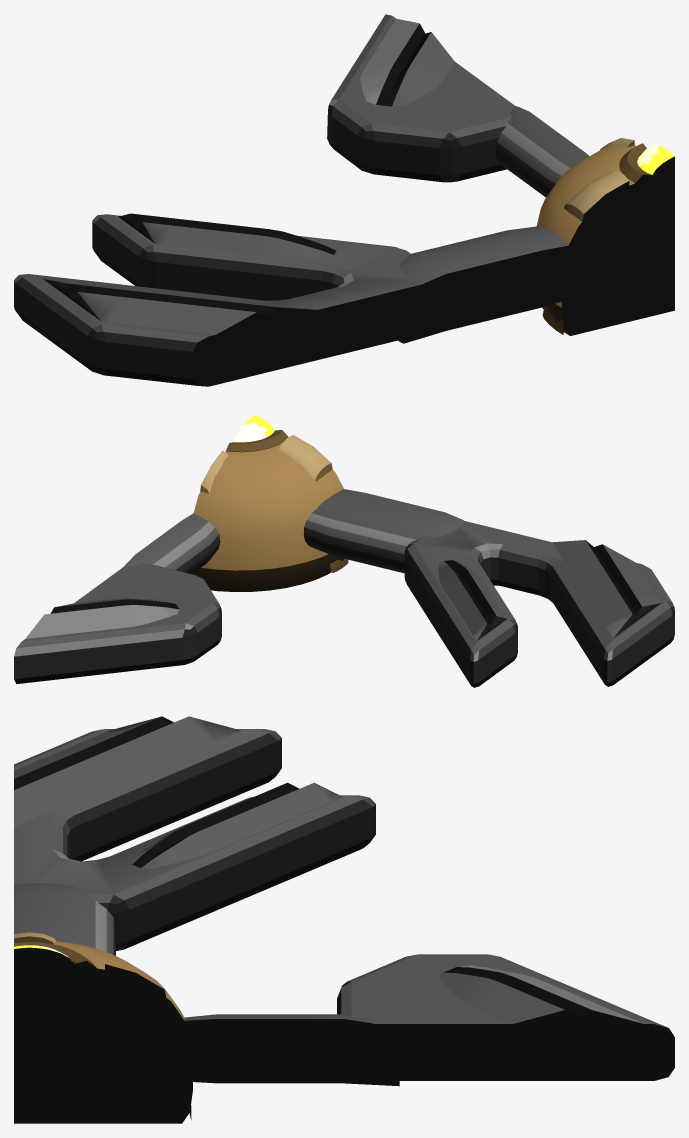
Rendered from spin_claw_77.glb.
The picture shows the model from 3 angles, top to bottom: view 1: azimuth 30°, elevation 25°; view 2: azimuth 150°, elevation 25°; view 3: azimuth 270°, elevation 25°; orthographic projection. The views are drawn at different scales.
Visible parts, largest first — view 1: spin_claw_77_arm3_plate, spin_claw_77_hub_dome, spin_claw_77_arm0_plate, spin_claw_77_arm3_rod, spin_claw_77_arm3_ridge0, spin_claw_77_arm0_ridge0, spin_claw_77_arm3_ridge1, spin_claw_77_arm0_rod, spin_claw_77_hub_rib3, spin_claw_77_hub_lens, spin_claw_77_hub_bezel; view 2: spin_claw_77_arm3_plate, spin_claw_77_hub_dome, spin_claw_77_arm0_plate, spin_claw_77_arm3_rod, spin_claw_77_arm3_ridge0, spin_claw_77_arm0_ridge0, spin_claw_77_arm0_rod, spin_claw_77_arm3_ridge1, spin_claw_77_hub_rib3, spin_claw_77_hub_lens, spin_claw_77_hub_bezel, spin_claw_77_hub_rib0; view 3: spin_claw_77_arm3_plate, spin_claw_77_arm0_plate, spin_claw_77_hub_dome, spin_claw_77_arm0_rod, spin_claw_77_arm3_ridge0, spin_claw_77_arm0_ridge0, spin_claw_77_arm3_ridge1, spin_claw_77_arm3_rod, spin_claw_77_hub_lens, spin_claw_77_hub_bezel, spin_claw_77_hub_rib0.
Part boxes in pixels (bbox=[...]): spin_claw_77_arm3_plate: bbox=[14, 214, 451, 386]; spin_claw_77_hub_dome: bbox=[536, 145, 674, 335]; spin_claw_77_arm0_plate: bbox=[327, 14, 515, 182]; spin_claw_77_arm3_rod: bbox=[398, 226, 605, 343]; spin_claw_77_arm3_ridge0: bbox=[43, 279, 325, 345]; spin_claw_77_arm0_ridge0: bbox=[360, 18, 454, 106]; spin_claw_77_arm3_ridge1: bbox=[118, 213, 336, 257]; spin_claw_77_arm0_rod: bbox=[495, 106, 589, 197]; spin_claw_77_hub_rib3: bbox=[542, 170, 629, 334]; spin_claw_77_hub_lens: bbox=[637, 145, 674, 191]; spin_claw_77_hub_bezel: bbox=[619, 143, 674, 192]; spin_claw_77_arm3_plate: bbox=[404, 521, 674, 687]; spin_claw_77_hub_dome: bbox=[192, 442, 343, 591]; spin_claw_77_arm0_plate: bbox=[14, 563, 221, 684]; spin_claw_77_arm3_rod: bbox=[303, 489, 464, 573]; spin_claw_77_arm3_ridge0: bbox=[552, 540, 661, 638]; spin_claw_77_arm0_ridge0: bbox=[25, 598, 179, 638]; spin_claw_77_arm0_rod: bbox=[124, 513, 220, 573]; spin_claw_77_arm3_ridge1: bbox=[438, 560, 506, 640]; spin_claw_77_hub_rib3: bbox=[279, 435, 348, 572]; spin_claw_77_hub_lens: bbox=[234, 415, 274, 442]; spin_claw_77_hub_bezel: bbox=[226, 430, 288, 452]; spin_claw_77_hub_rib0: bbox=[200, 450, 228, 493]; spin_claw_77_arm3_plate: bbox=[14, 729, 375, 950]; spin_claw_77_arm0_plate: bbox=[337, 954, 674, 1080]; spin_claw_77_hub_dome: bbox=[14, 941, 192, 1123]; spin_claw_77_arm0_rod: bbox=[136, 1014, 399, 1086]; spin_claw_77_arm3_ridge0: bbox=[14, 716, 241, 826]; spin_claw_77_arm0_ridge0: bbox=[438, 965, 657, 1034]; spin_claw_77_arm3_ridge1: bbox=[131, 782, 342, 868]; spin_claw_77_arm3_rod: bbox=[14, 883, 115, 955]; spin_claw_77_hub_lens: bbox=[14, 945, 76, 981]; spin_claw_77_hub_bezel: bbox=[14, 942, 96, 979]; spin_claw_77_hub_rib0: bbox=[105, 964, 191, 1119].
Size of the model in its own units: 22.7 by 6.19 by 21.08.
